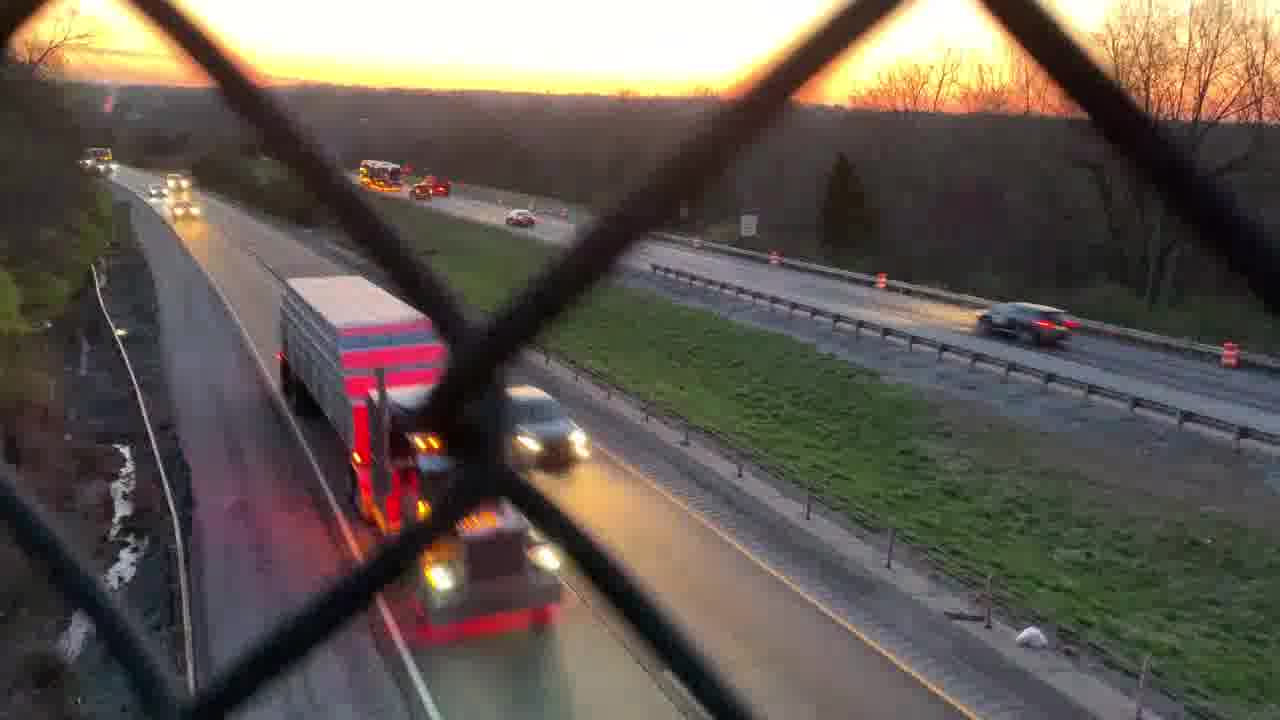heavyTruck: (274, 272, 564, 635), (362, 155, 404, 190)
largeCar: (974, 298, 1082, 347)
smallCar: (499, 210, 537, 225)
